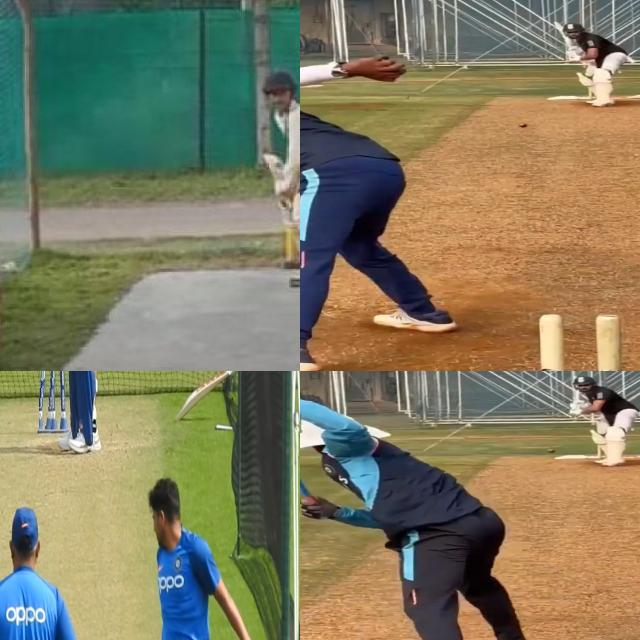Cricket ball: (531, 310, 640, 371), (546, 448, 556, 454), (518, 123, 527, 127)
Stumps: (39, 371, 65, 434)
